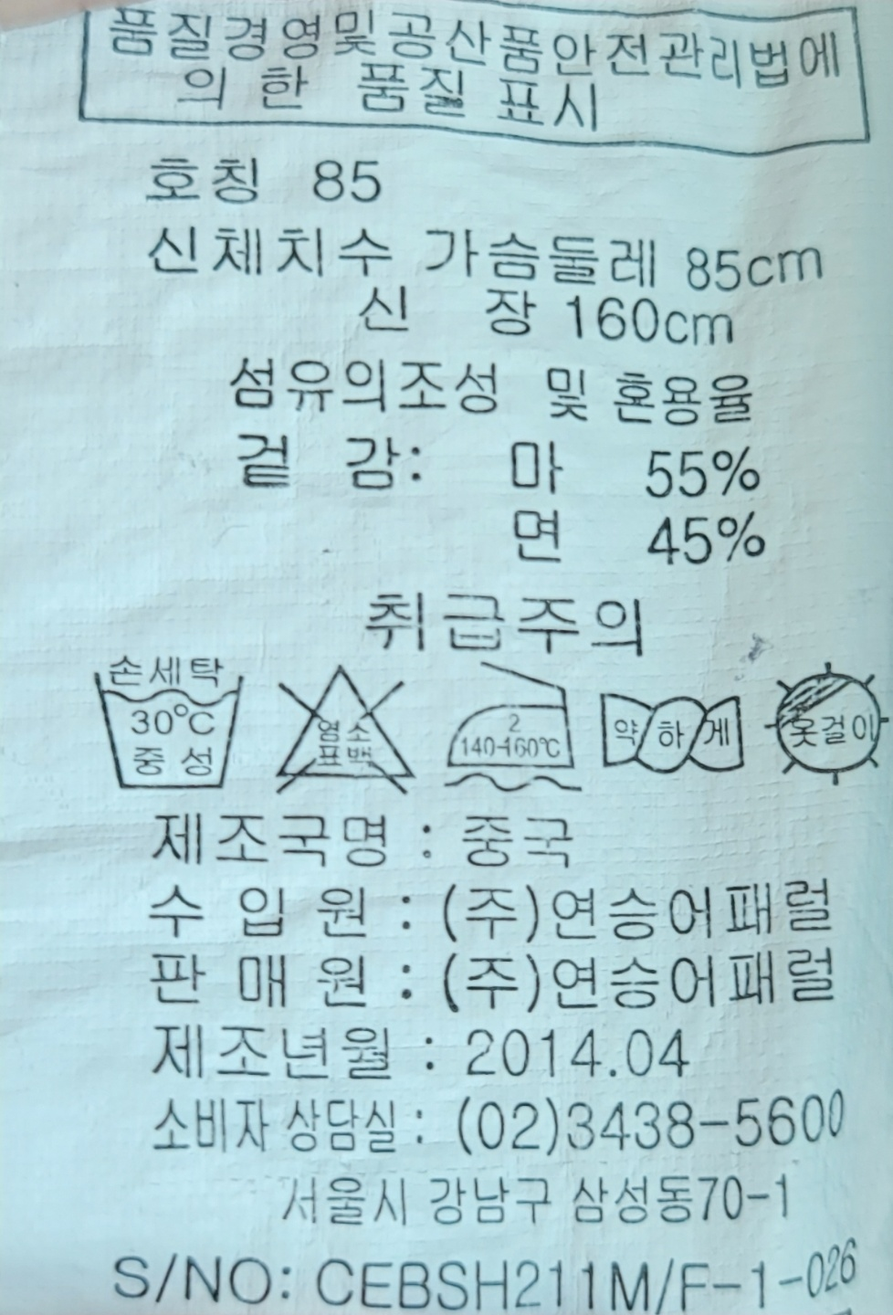KR_gentle_wring: (592, 671, 759, 792)
KR_hand_wash_30_neutral: (86, 636, 245, 800)
KR_hang_dry_in_shade: (760, 659, 890, 794)
KR_iron_medium_temp_with_cloth: (435, 658, 589, 802)
KR_no_chlorine_bleach: (261, 654, 430, 801)
